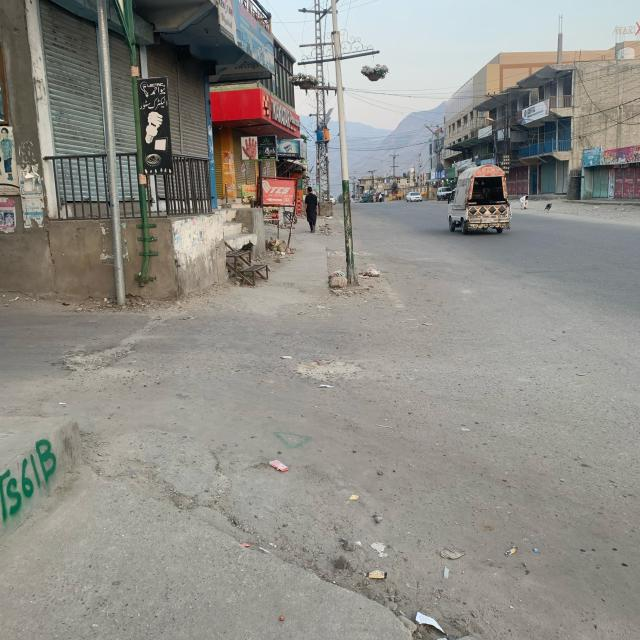Right-Turn: (29, 303, 627, 502)
straight: (347, 192, 545, 550)
